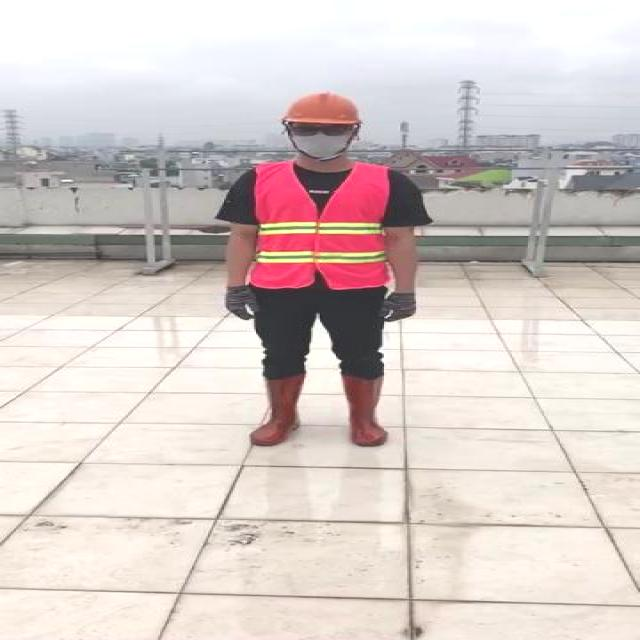boots: (244, 374, 311, 448), (347, 373, 388, 446)
face_mask: (284, 120, 360, 158)
glasses: (287, 121, 357, 139)
hand_glove: (377, 291, 425, 323), (224, 286, 258, 320)
head_helmet: (278, 89, 367, 127)
person: (212, 89, 440, 450)
vest: (247, 163, 389, 288)
